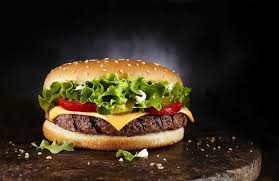hamburger: (37, 55, 193, 151)
